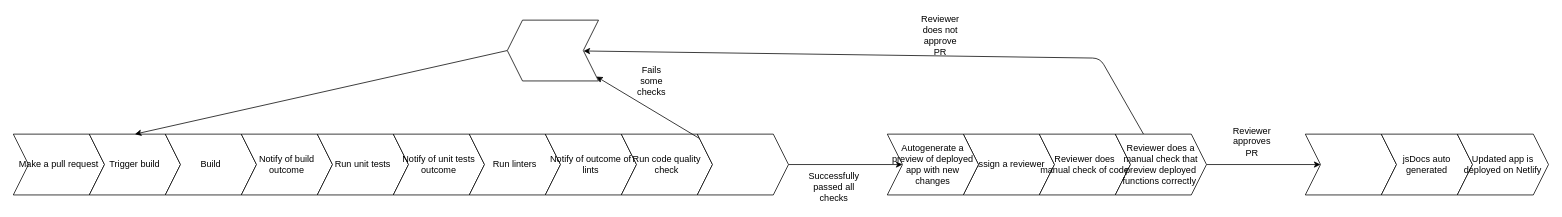
Some shapes in this 1562 by 217 pixel diagram are drawn without their labels. Here are the shapes that lost their labels. From the top down, the centre of each, then its label:
pixel 552 50: Author of code fixes issues
pixel 742 164: Notify of code quality outcome
pixel 1350 164: Merge pull request with main and delete branch
